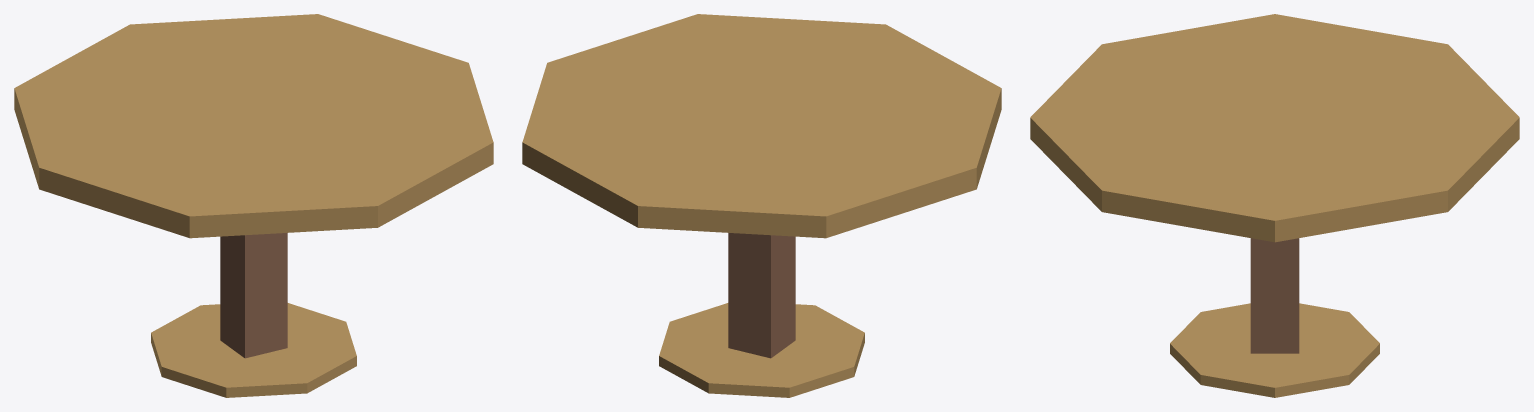
The model's file is Table3.fbx.
3 renders of one model, left to right at view 1: azimuth 30°, elevation 25°; view 2: azimuth 150°, elevation 25°; view 3: azimuth 270°, elevation 25°, orthographic.
Parts seen in each view (by area): view 1: Cylinder; view 2: Cylinder; view 3: Cylinder.
Part boxes in pixels (<box>): Cylinder: <box>14,14,493,397</box>; Cylinder: <box>522,14,1001,397</box>; Cylinder: <box>1030,14,1519,397</box>.
Size of the model in its own units: 2.19 by 1.16 by 2.19.
